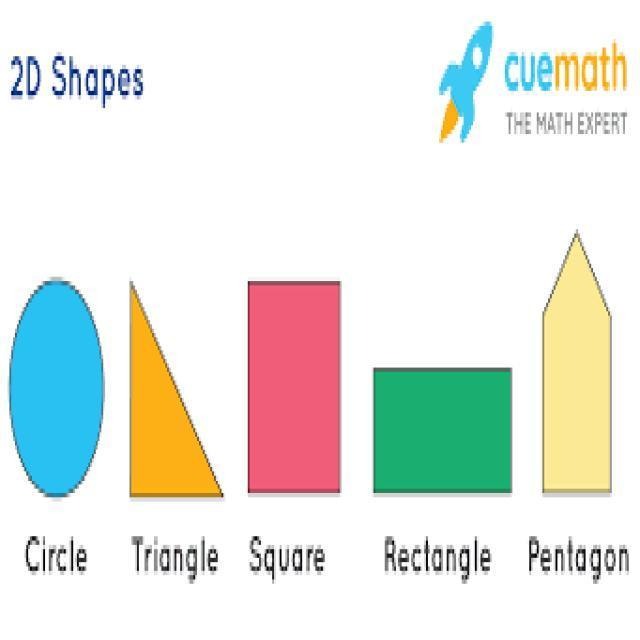circle: (3, 251, 119, 518)
square: (238, 259, 360, 516), (363, 334, 529, 512)
triangle: (123, 252, 237, 520)
